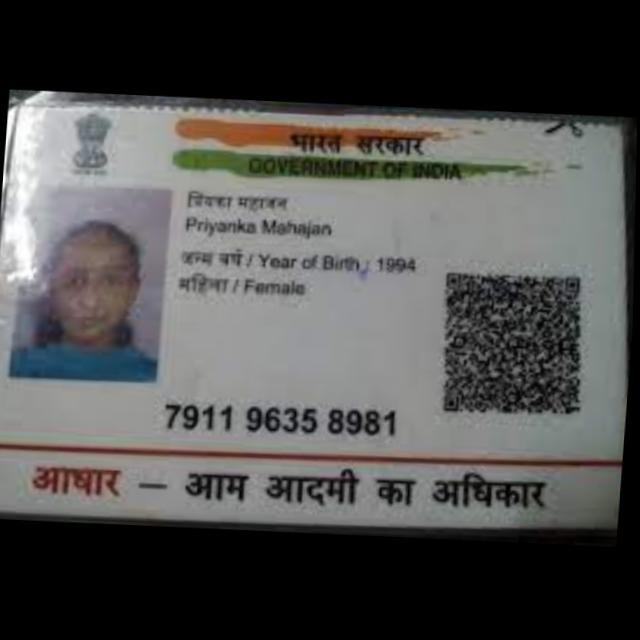aadhaar: (0, 85, 638, 551)
